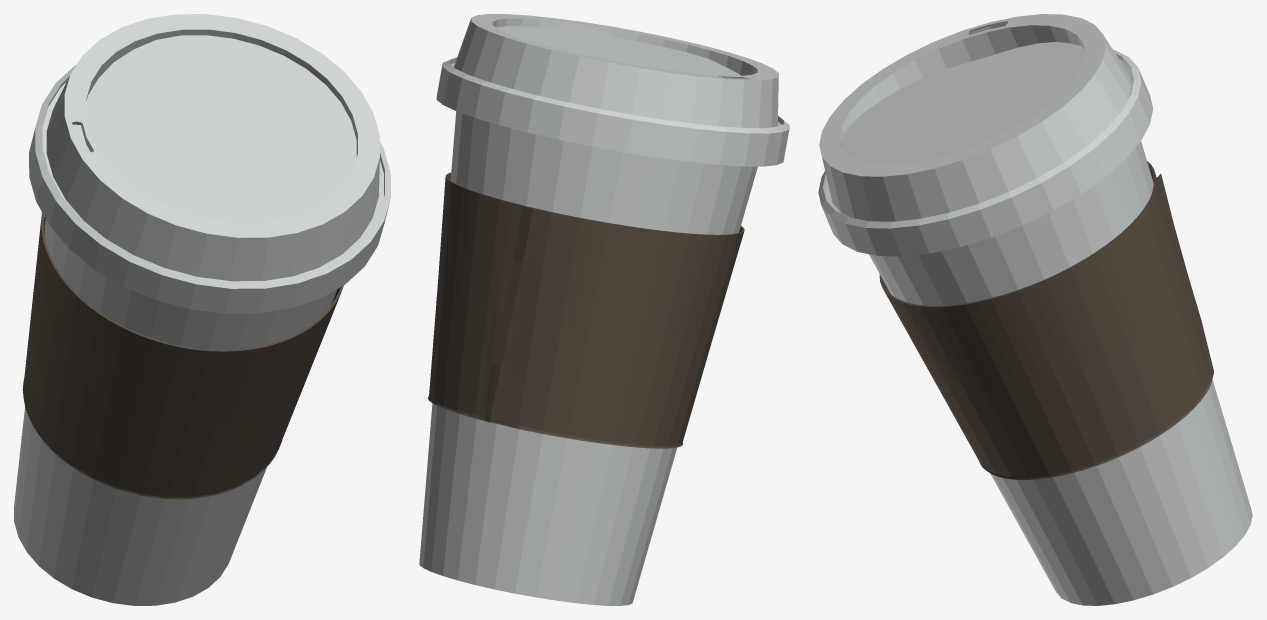
File: coffeeCup8-9-20-2.gltf
3 renders of one model, left to right at view 1: azimuth 30°, elevation 25°; view 2: azimuth 150°, elevation 25°; view 3: azimuth 270°, elevation 25°, orthographic. The views are drawn at different scales.
Parts seen in each view (by area): view 1: Circle.001, Circle.002, Circle.003; view 2: Circle.002, Circle.003, Circle.001; view 3: Circle.001, Circle.002, Circle.003.
Boxes of the visible parts, x1,y1,x2,y2 form: Circle.001: (29,14,390,313); Circle.002: (22,212,343,499); Circle.003: (14,219,337,605); Circle.002: (428,172,744,448); Circle.003: (419,111,757,605); Circle.001: (436,14,789,166); Circle.001: (818,14,1152,256); Circle.002: (879,161,1213,479); Circle.003: (869,141,1252,605).
Bounding box in the file's own units: 50.51 × 86.6 × 63.43.
